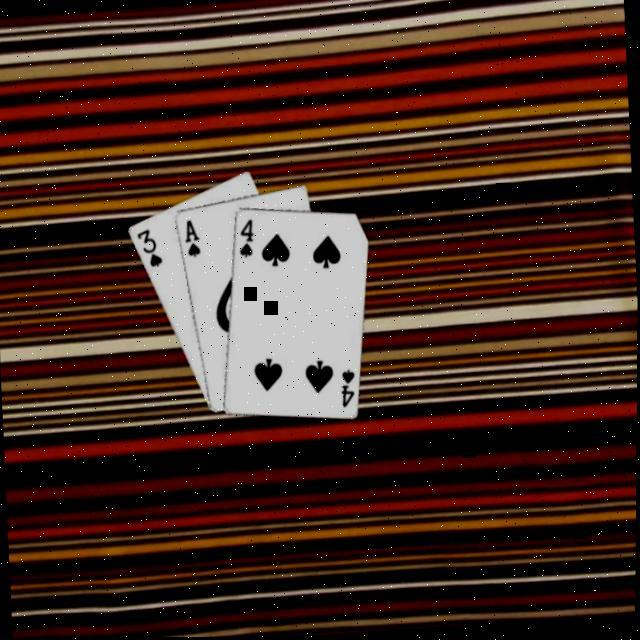3S: (131, 223, 163, 269)
4S: (233, 216, 255, 259), (335, 365, 357, 408)
AS: (178, 215, 201, 258)
